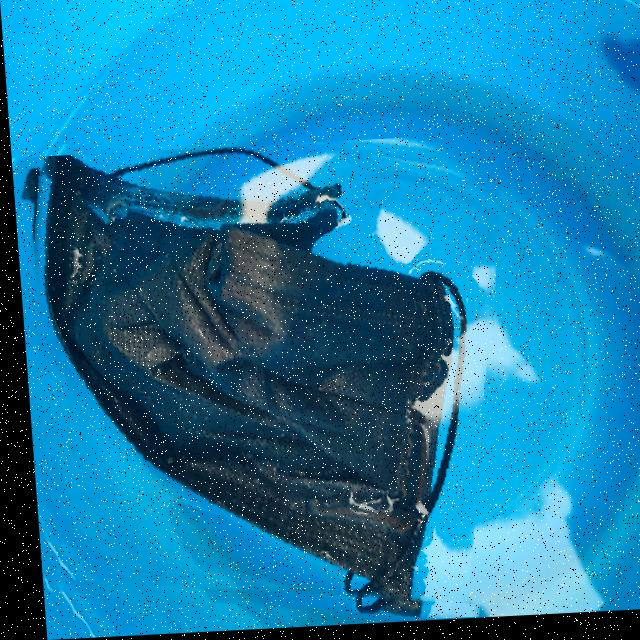litter: (9, 139, 510, 630)
